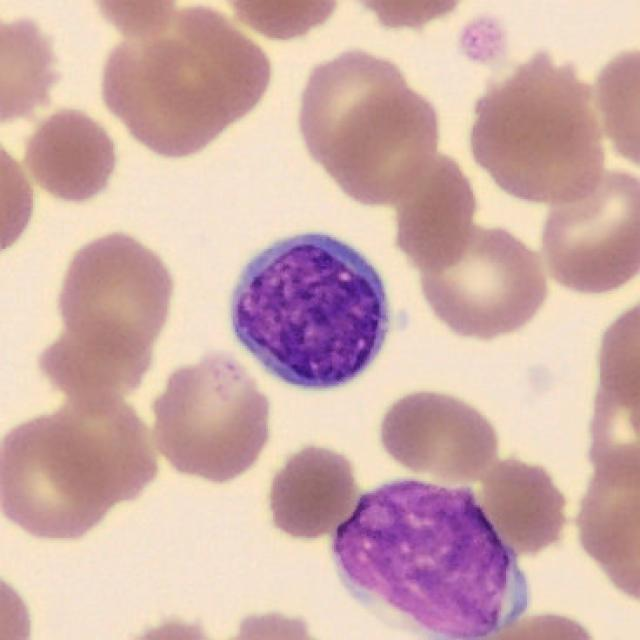Linfocito: (330, 481, 529, 640), (231, 234, 388, 391)
